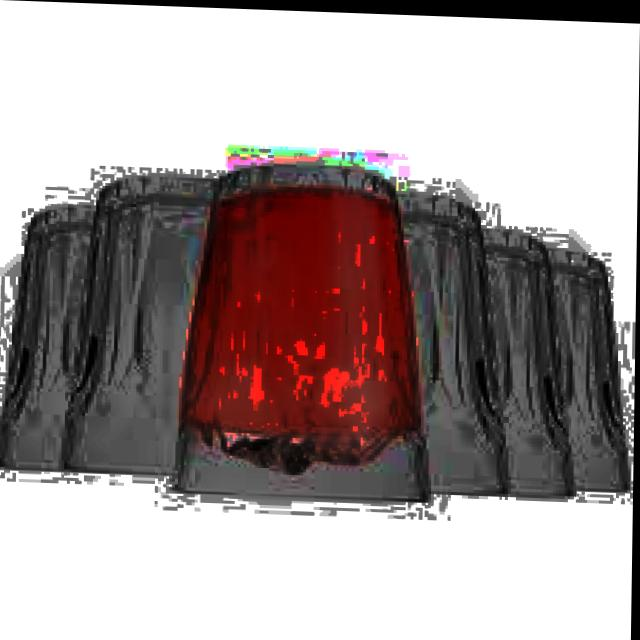drink: (172, 155, 439, 517)
